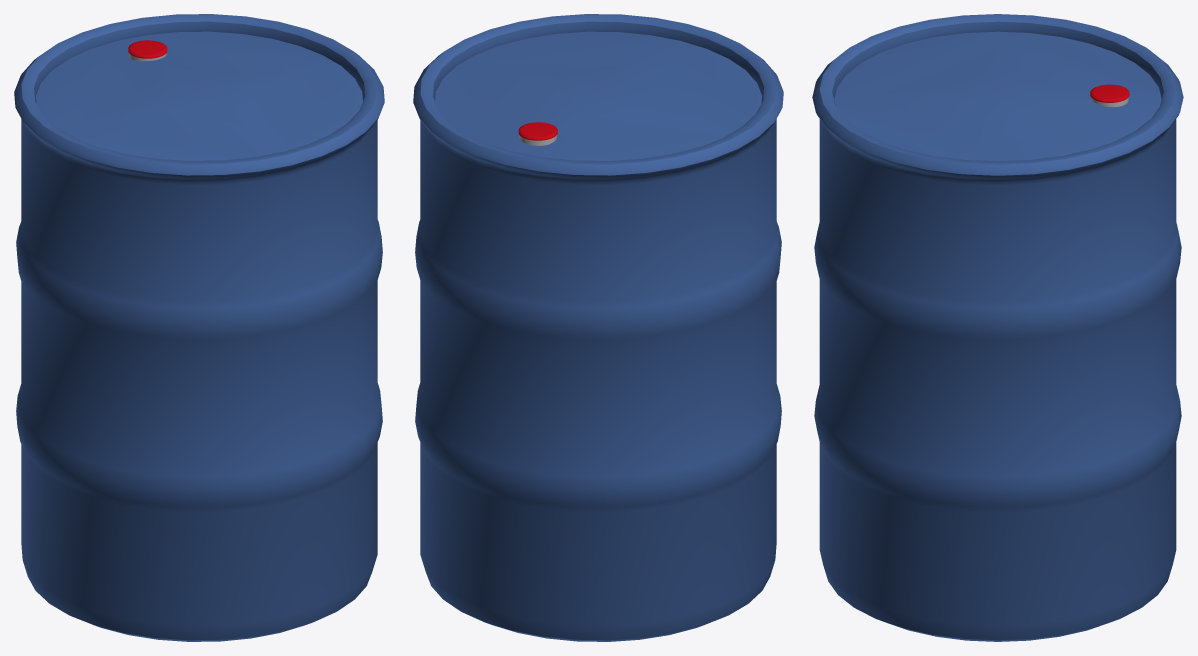
Rendered from BarrilAgua.fbx.
3 renders of one model, left to right at view 1: azimuth 30°, elevation 25°; view 2: azimuth 150°, elevation 25°; view 3: azimuth 270°, elevation 25°, orthographic.
Parts seen in each view (by area): view 1: BarrilAgua, TapaBarrilAgua; view 2: BarrilAgua, TapaBarrilAgua; view 3: BarrilAgua, TapaBarrilAgua.
Boxes of the visible parts, x1,y1,x2,y2 form: BarrilAgua: [14, 14, 384, 641]; TapaBarrilAgua: [128, 40, 167, 61]; BarrilAgua: [413, 14, 783, 641]; TapaBarrilAgua: [518, 122, 557, 145]; BarrilAgua: [812, 14, 1183, 641]; TapaBarrilAgua: [1090, 84, 1129, 107].
Size of the model in its own units: 2.08 by 2.08 by 3.
